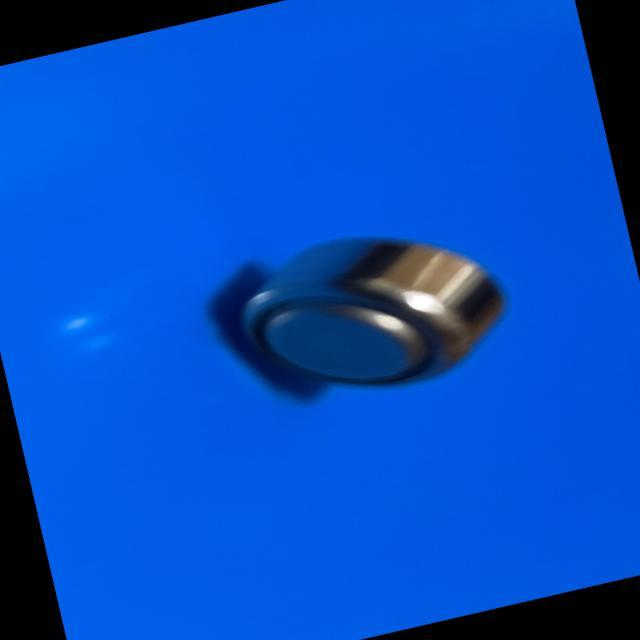COIN: (219, 202, 532, 425)
